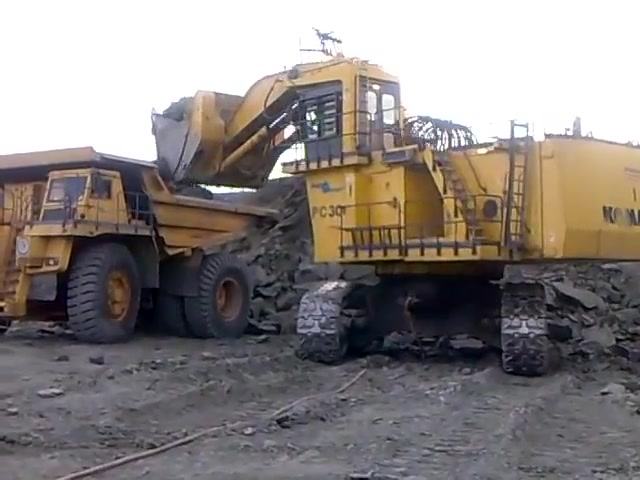body: (292, 56, 638, 266)
hoe: (148, 88, 282, 192)
